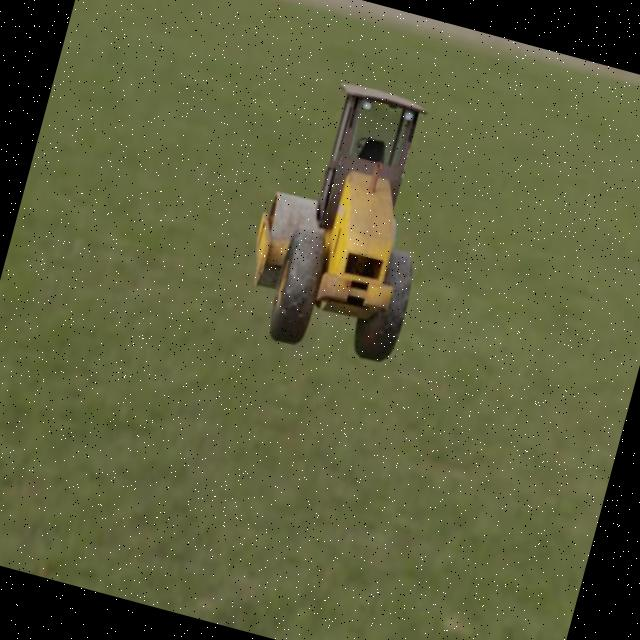Roller: (231, 68, 458, 372)
